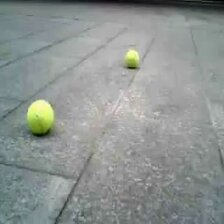tennis: (27, 100, 53, 133), (124, 49, 142, 68)
